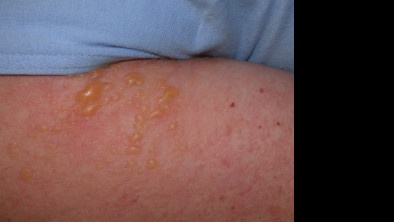SJS-TEN: (0, 53, 204, 195)
